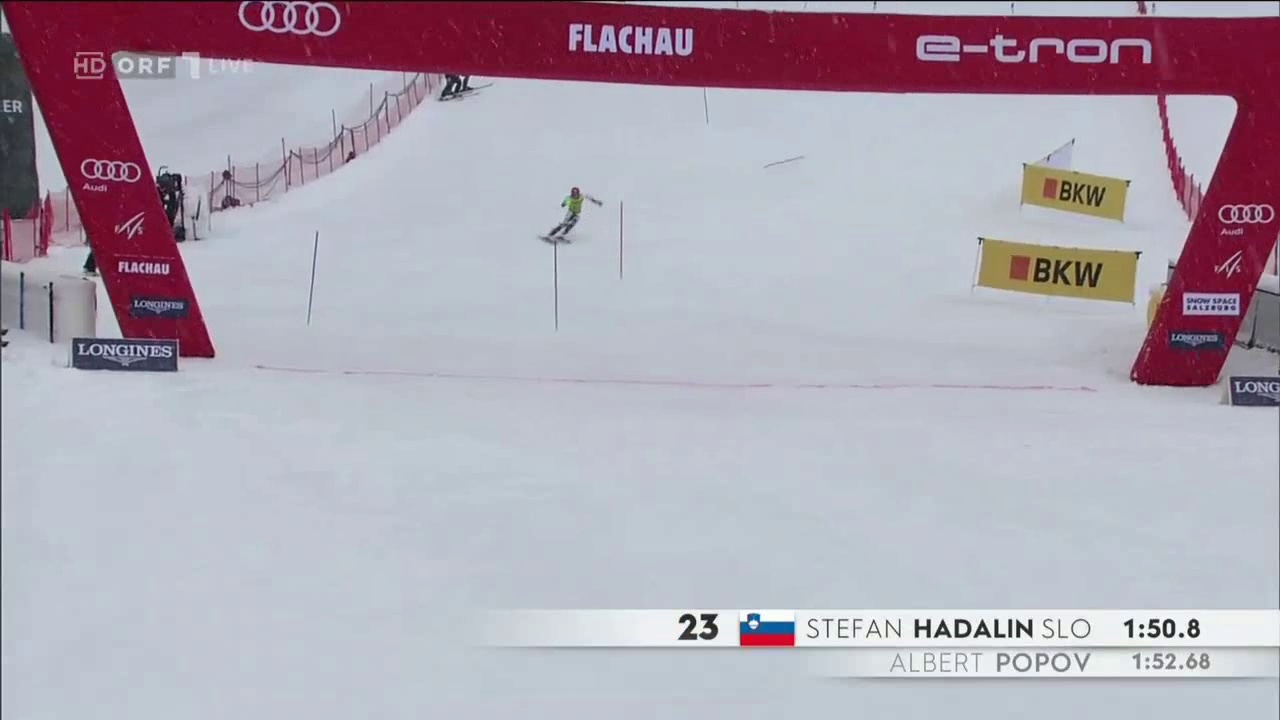audi: (234, 1, 345, 42), (81, 158, 146, 190), (1218, 203, 1278, 232)
etron: (923, 32, 1146, 74)
flachau: (570, 16, 695, 65)
longines: (73, 342, 185, 373), (1232, 379, 1279, 411)
